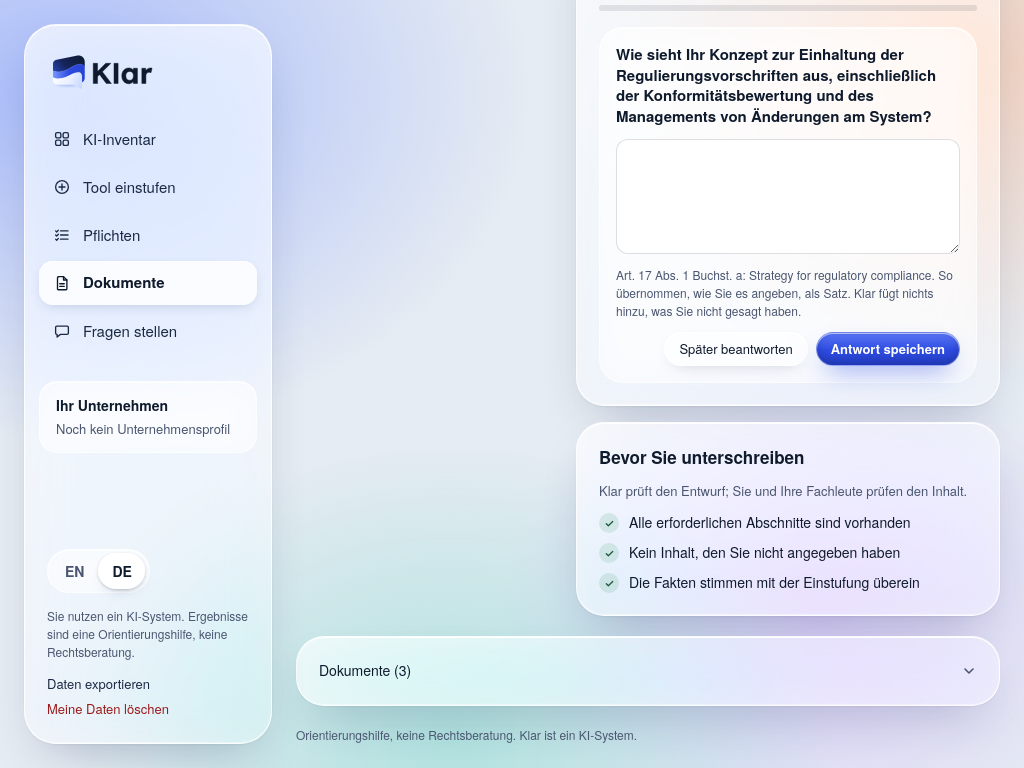
Test: the Documents screen on a phone, in German › opens on the document, the documents list closed behind its toggle (the Art. 17 skeleton)
(page scrolled)
Click the button "Dokumente (3)".
click(365, 670)  # box [311,649,985,693]
(page scrolled)
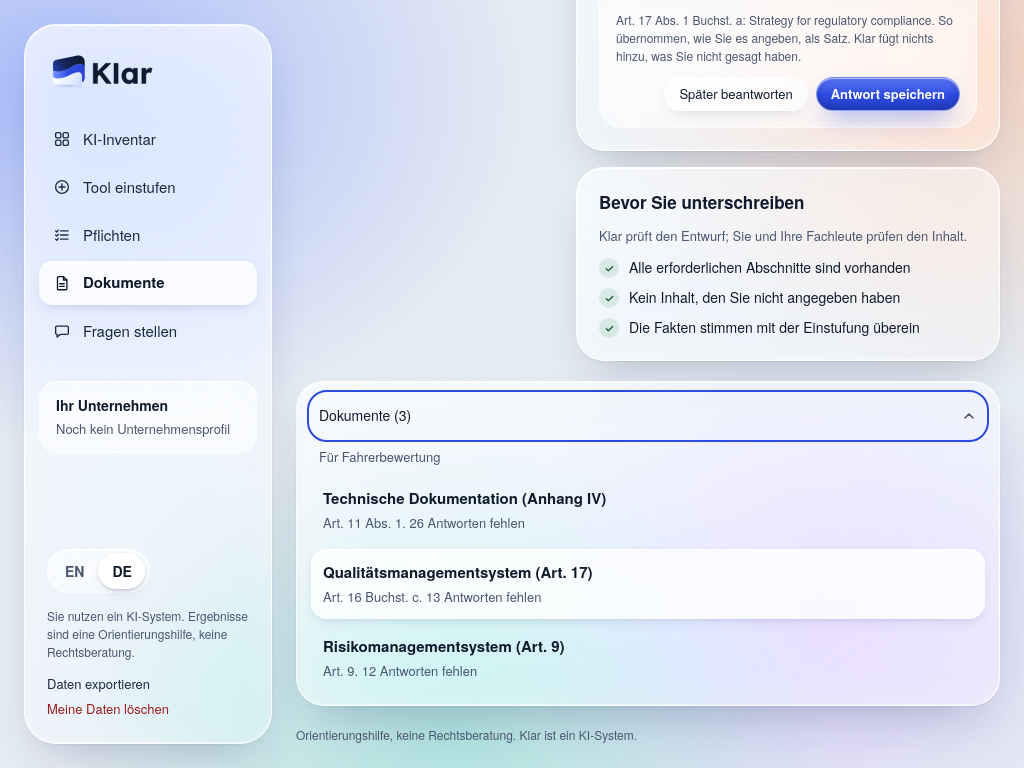
Now the link that starts with "Qualitätsmanagementsystem (Art. 17)" is shown, box [311,549,985,619]
